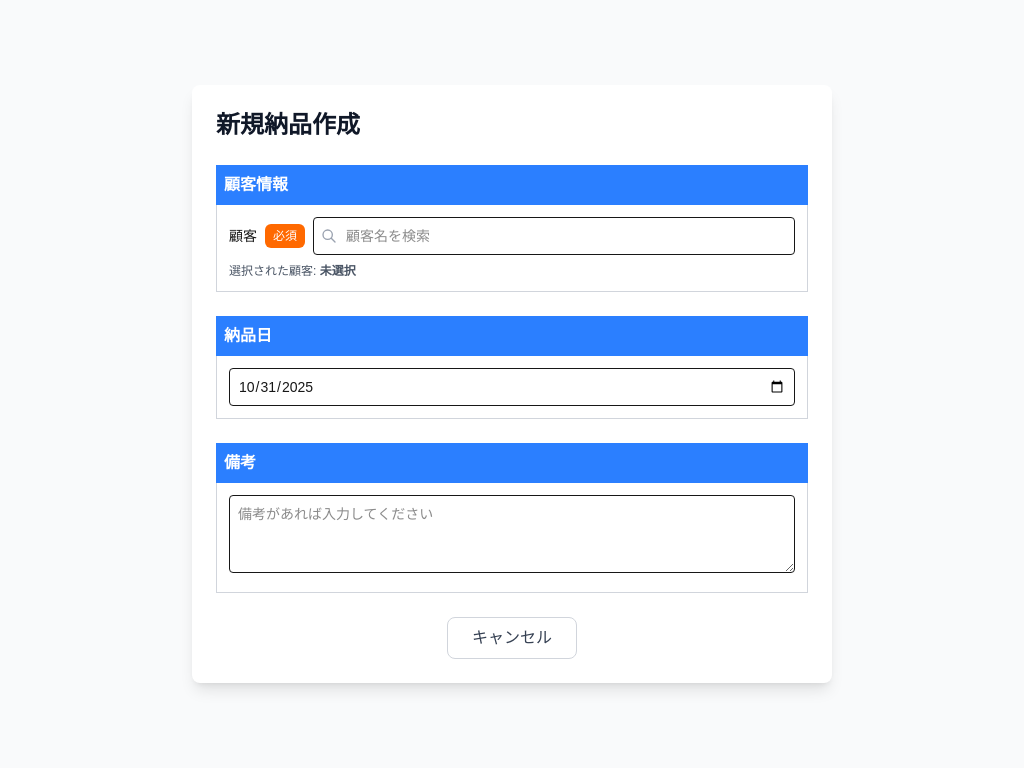
Test case: DeliveryAddPage › opens product selection modal
Click the field with placeholder "顧客名を検索": {"x": 554, "y": 236} [313,217,795,255]
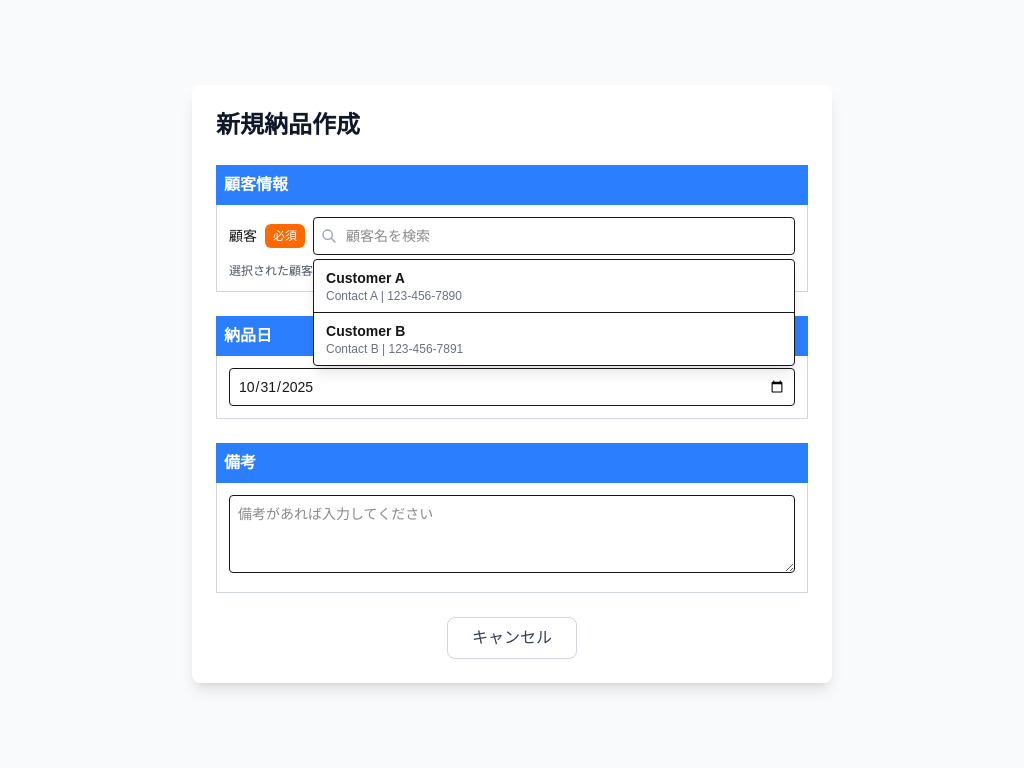
Expected: the text "Customer A" is shown
Click the text "Customer A": {"x": 365, "y": 278} [326,270,405,286]
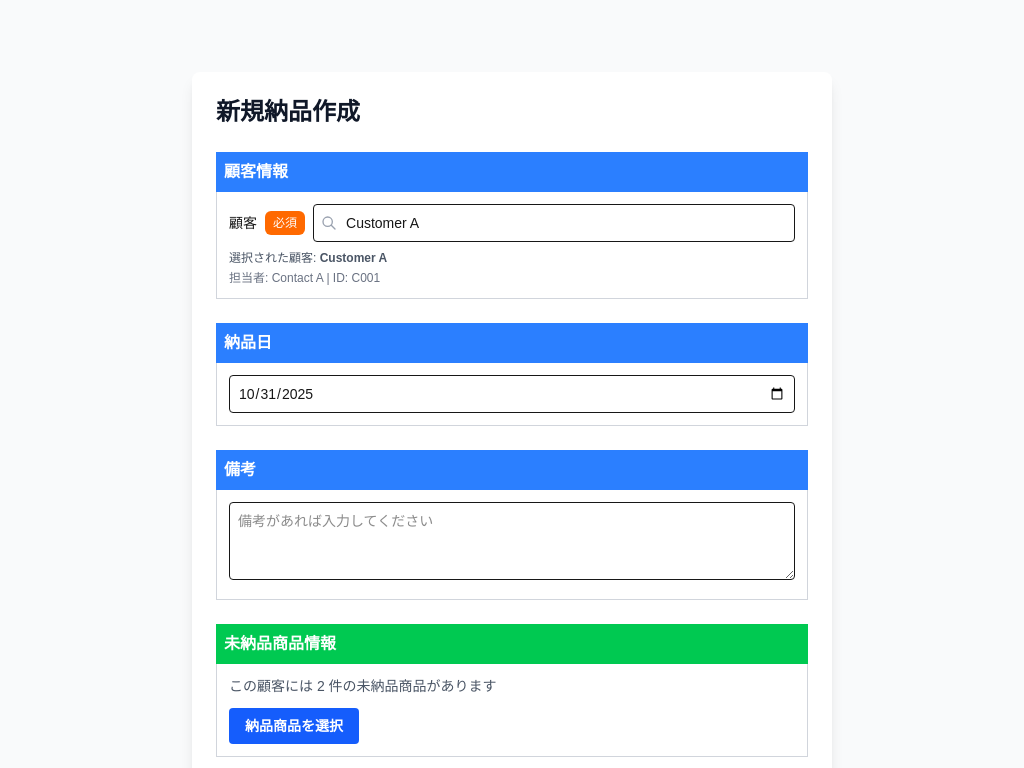
Expected: the button "納品商品を選択" is shown
Click the button "納品商品を選択": {"x": 294, "y": 726} [229,708,359,744]
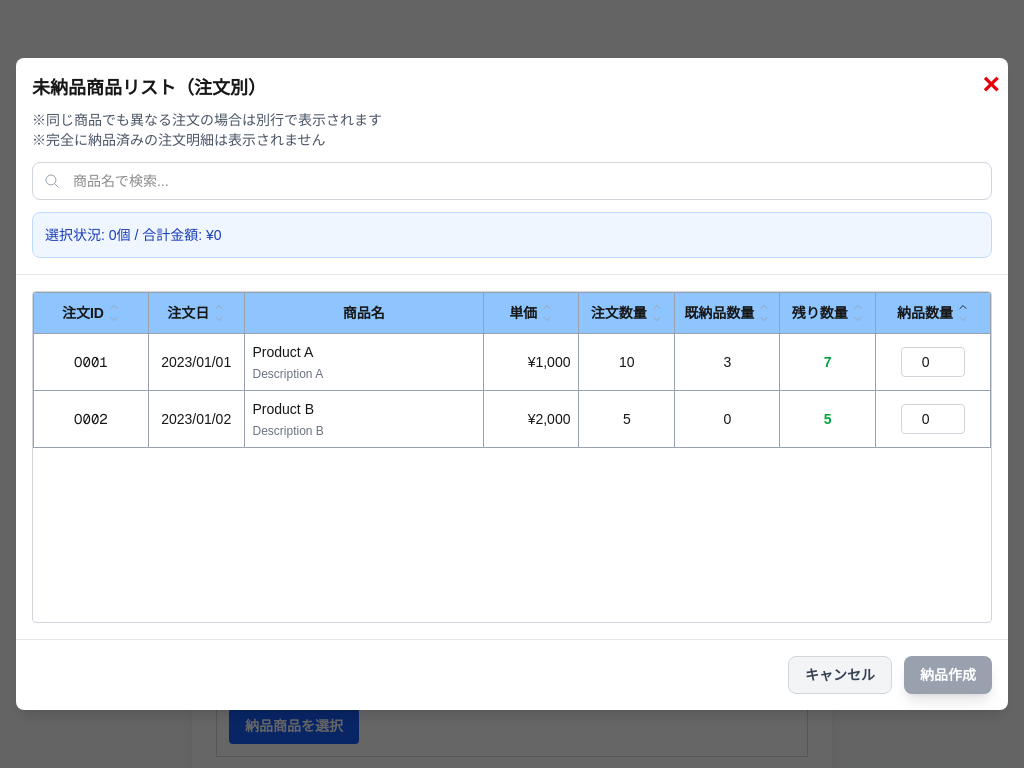
Expected: the heading "未納品商品リスト（注文別）" is shown, [32,78,266,98]
